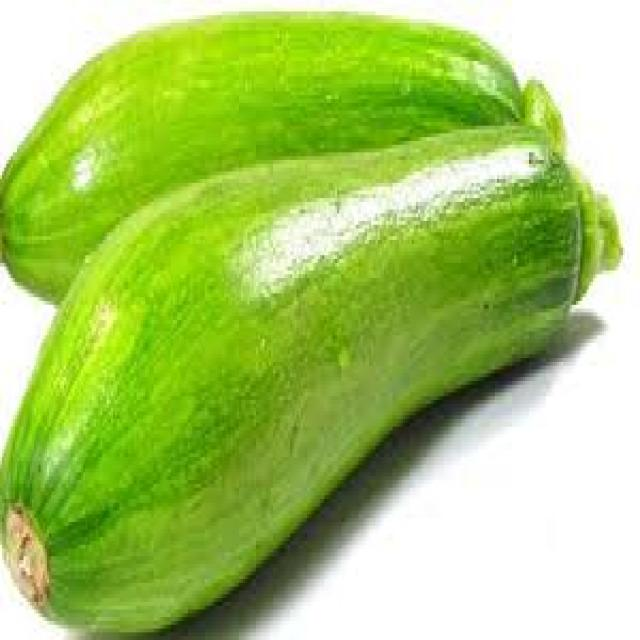Yogurt cup: (0, 118, 624, 630)
